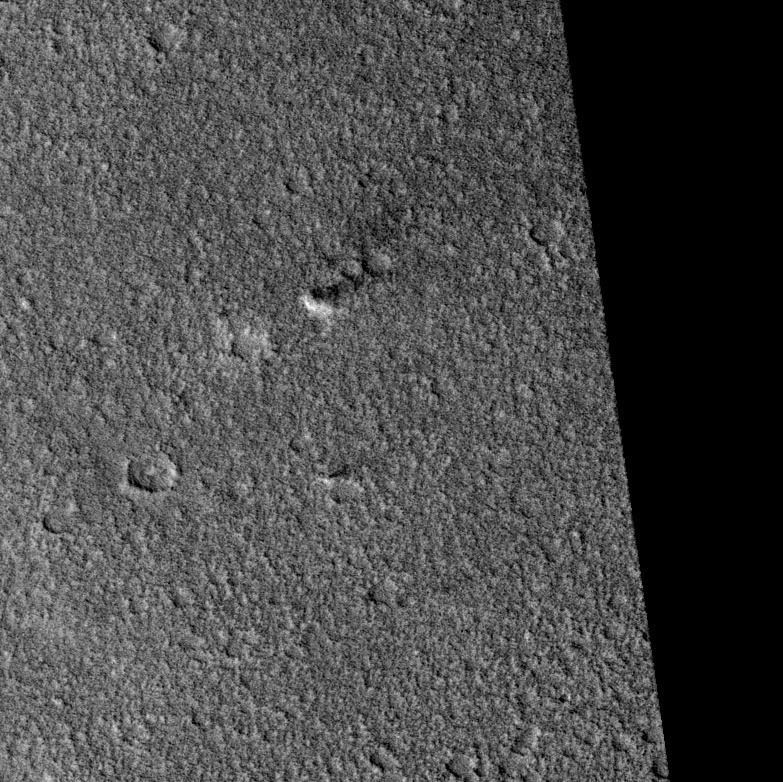dust_devil: (301, 264, 386, 321)
